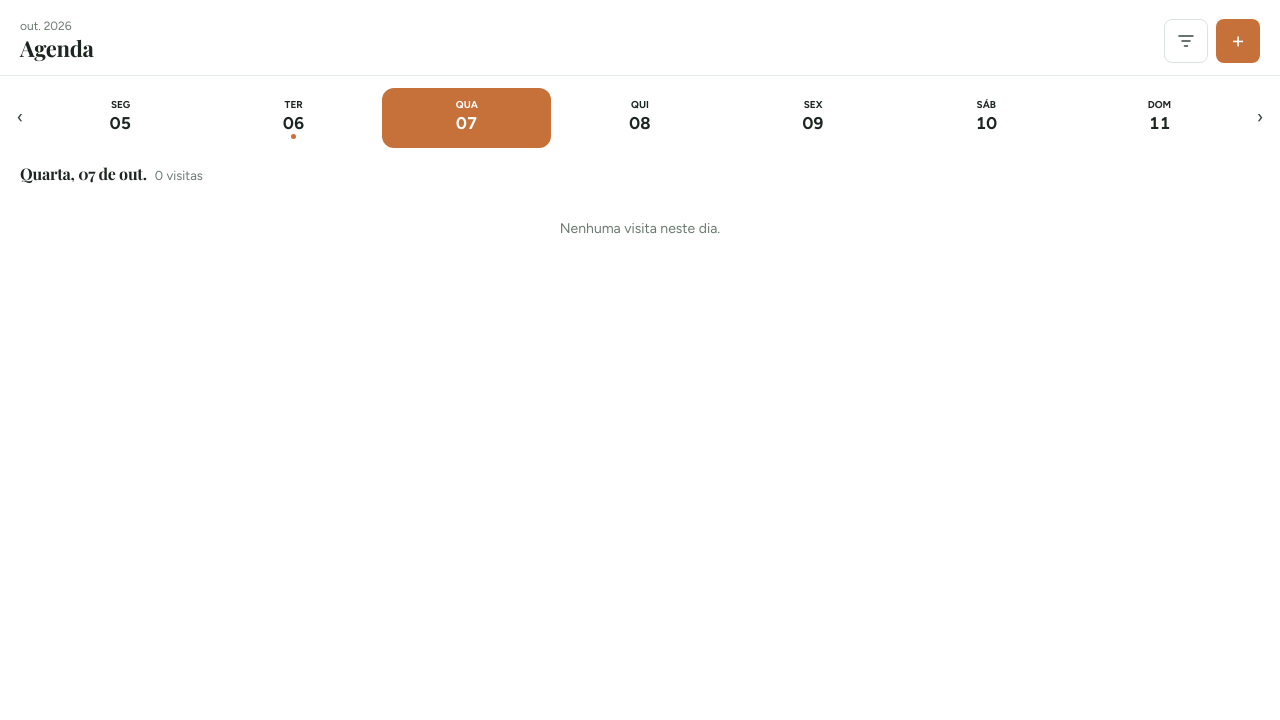
Test: Registro da visita (CRMLAB-88) › check-out sem check-in no servidor: avisa e recarrega a visita
The image size is (1280, 720).
Click the tab with aria-label "Terça, 06 de out., com visitas".
click(294, 118)  # box [209,88,378,148]
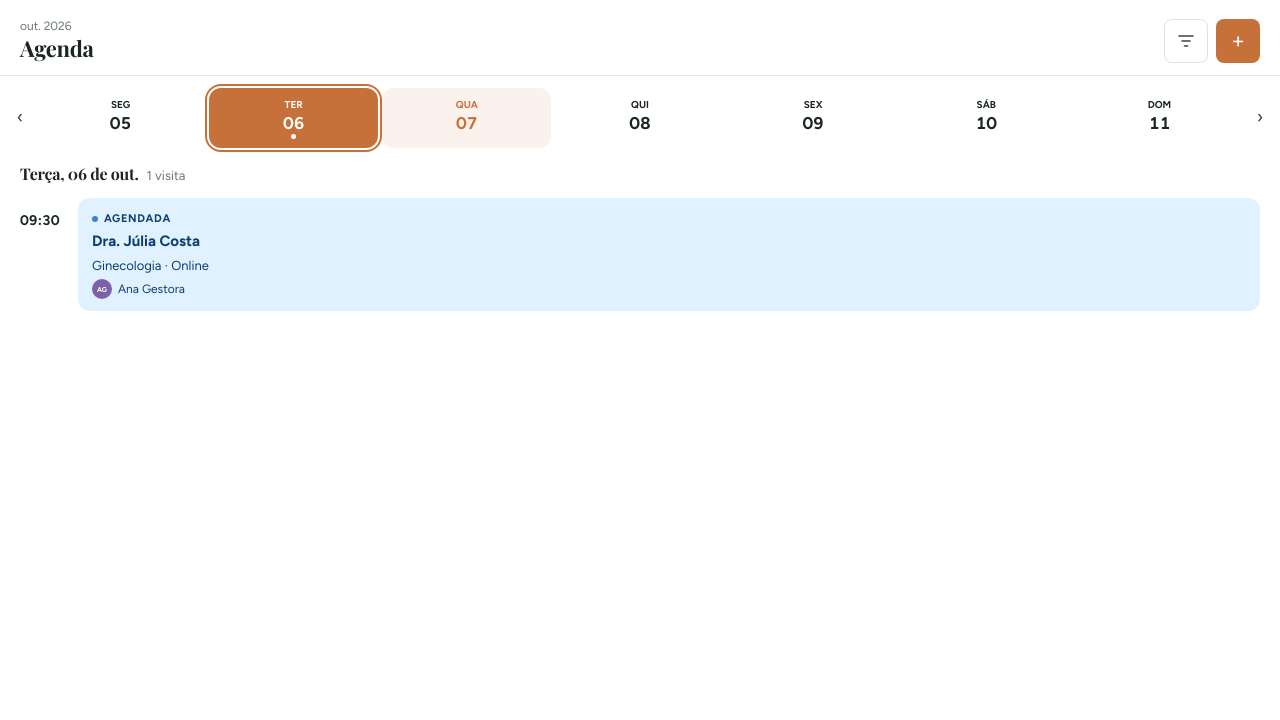
Click the text "Dra. Júlia Costa".
click(146, 242)  # box [92,230,200,253]
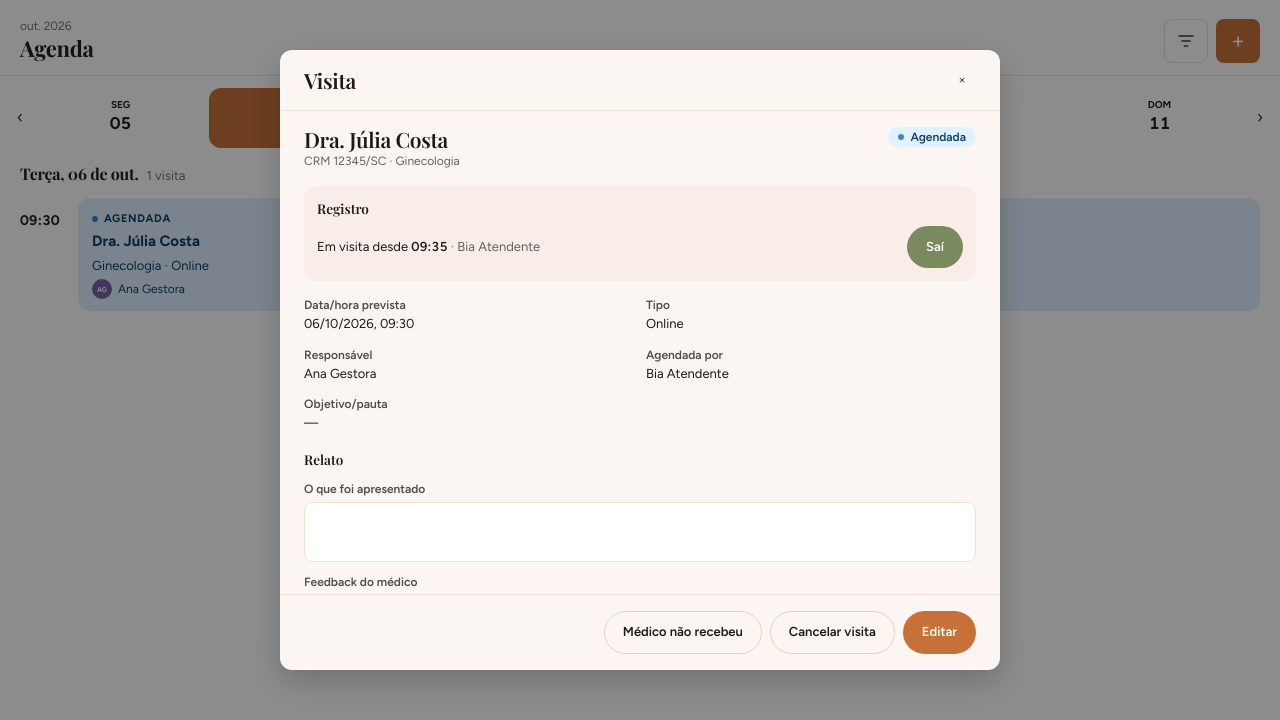
Click the button "Saí".
click(935, 247)  # box [907,226,963,268]
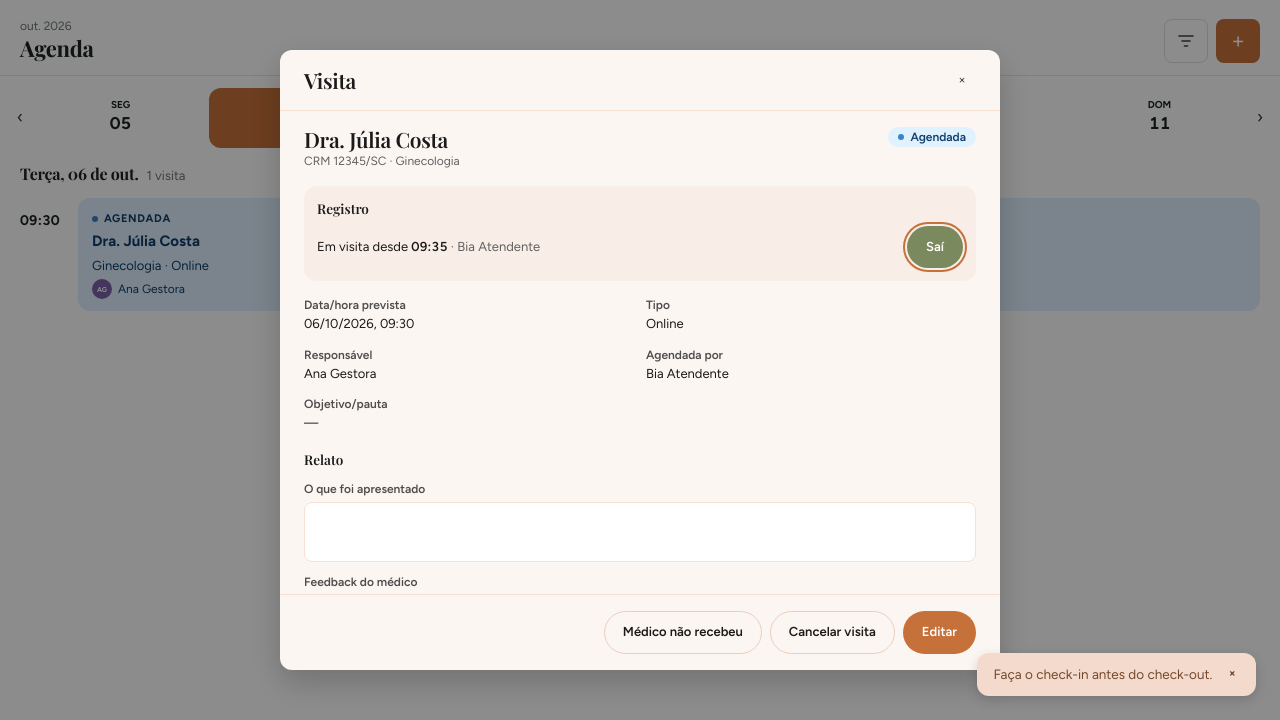
expect the text "Faça o check-in antes do check-out." is shown: met, box [993,665,1212,684]
